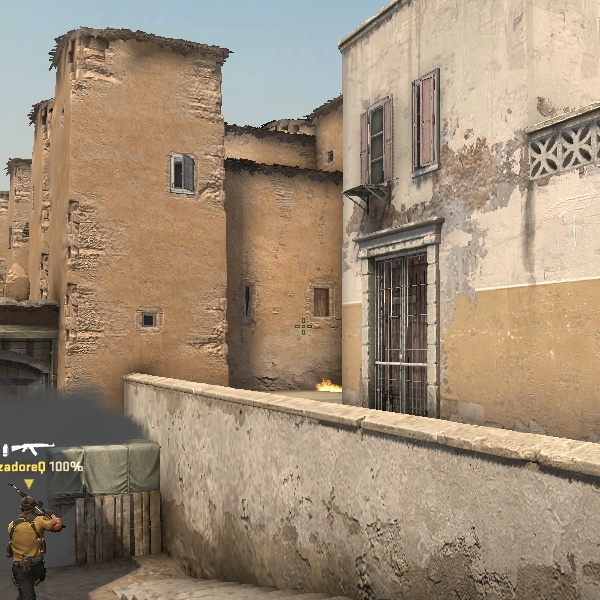t_body: (1, 494, 65, 597)
t_head: (18, 493, 39, 519)
